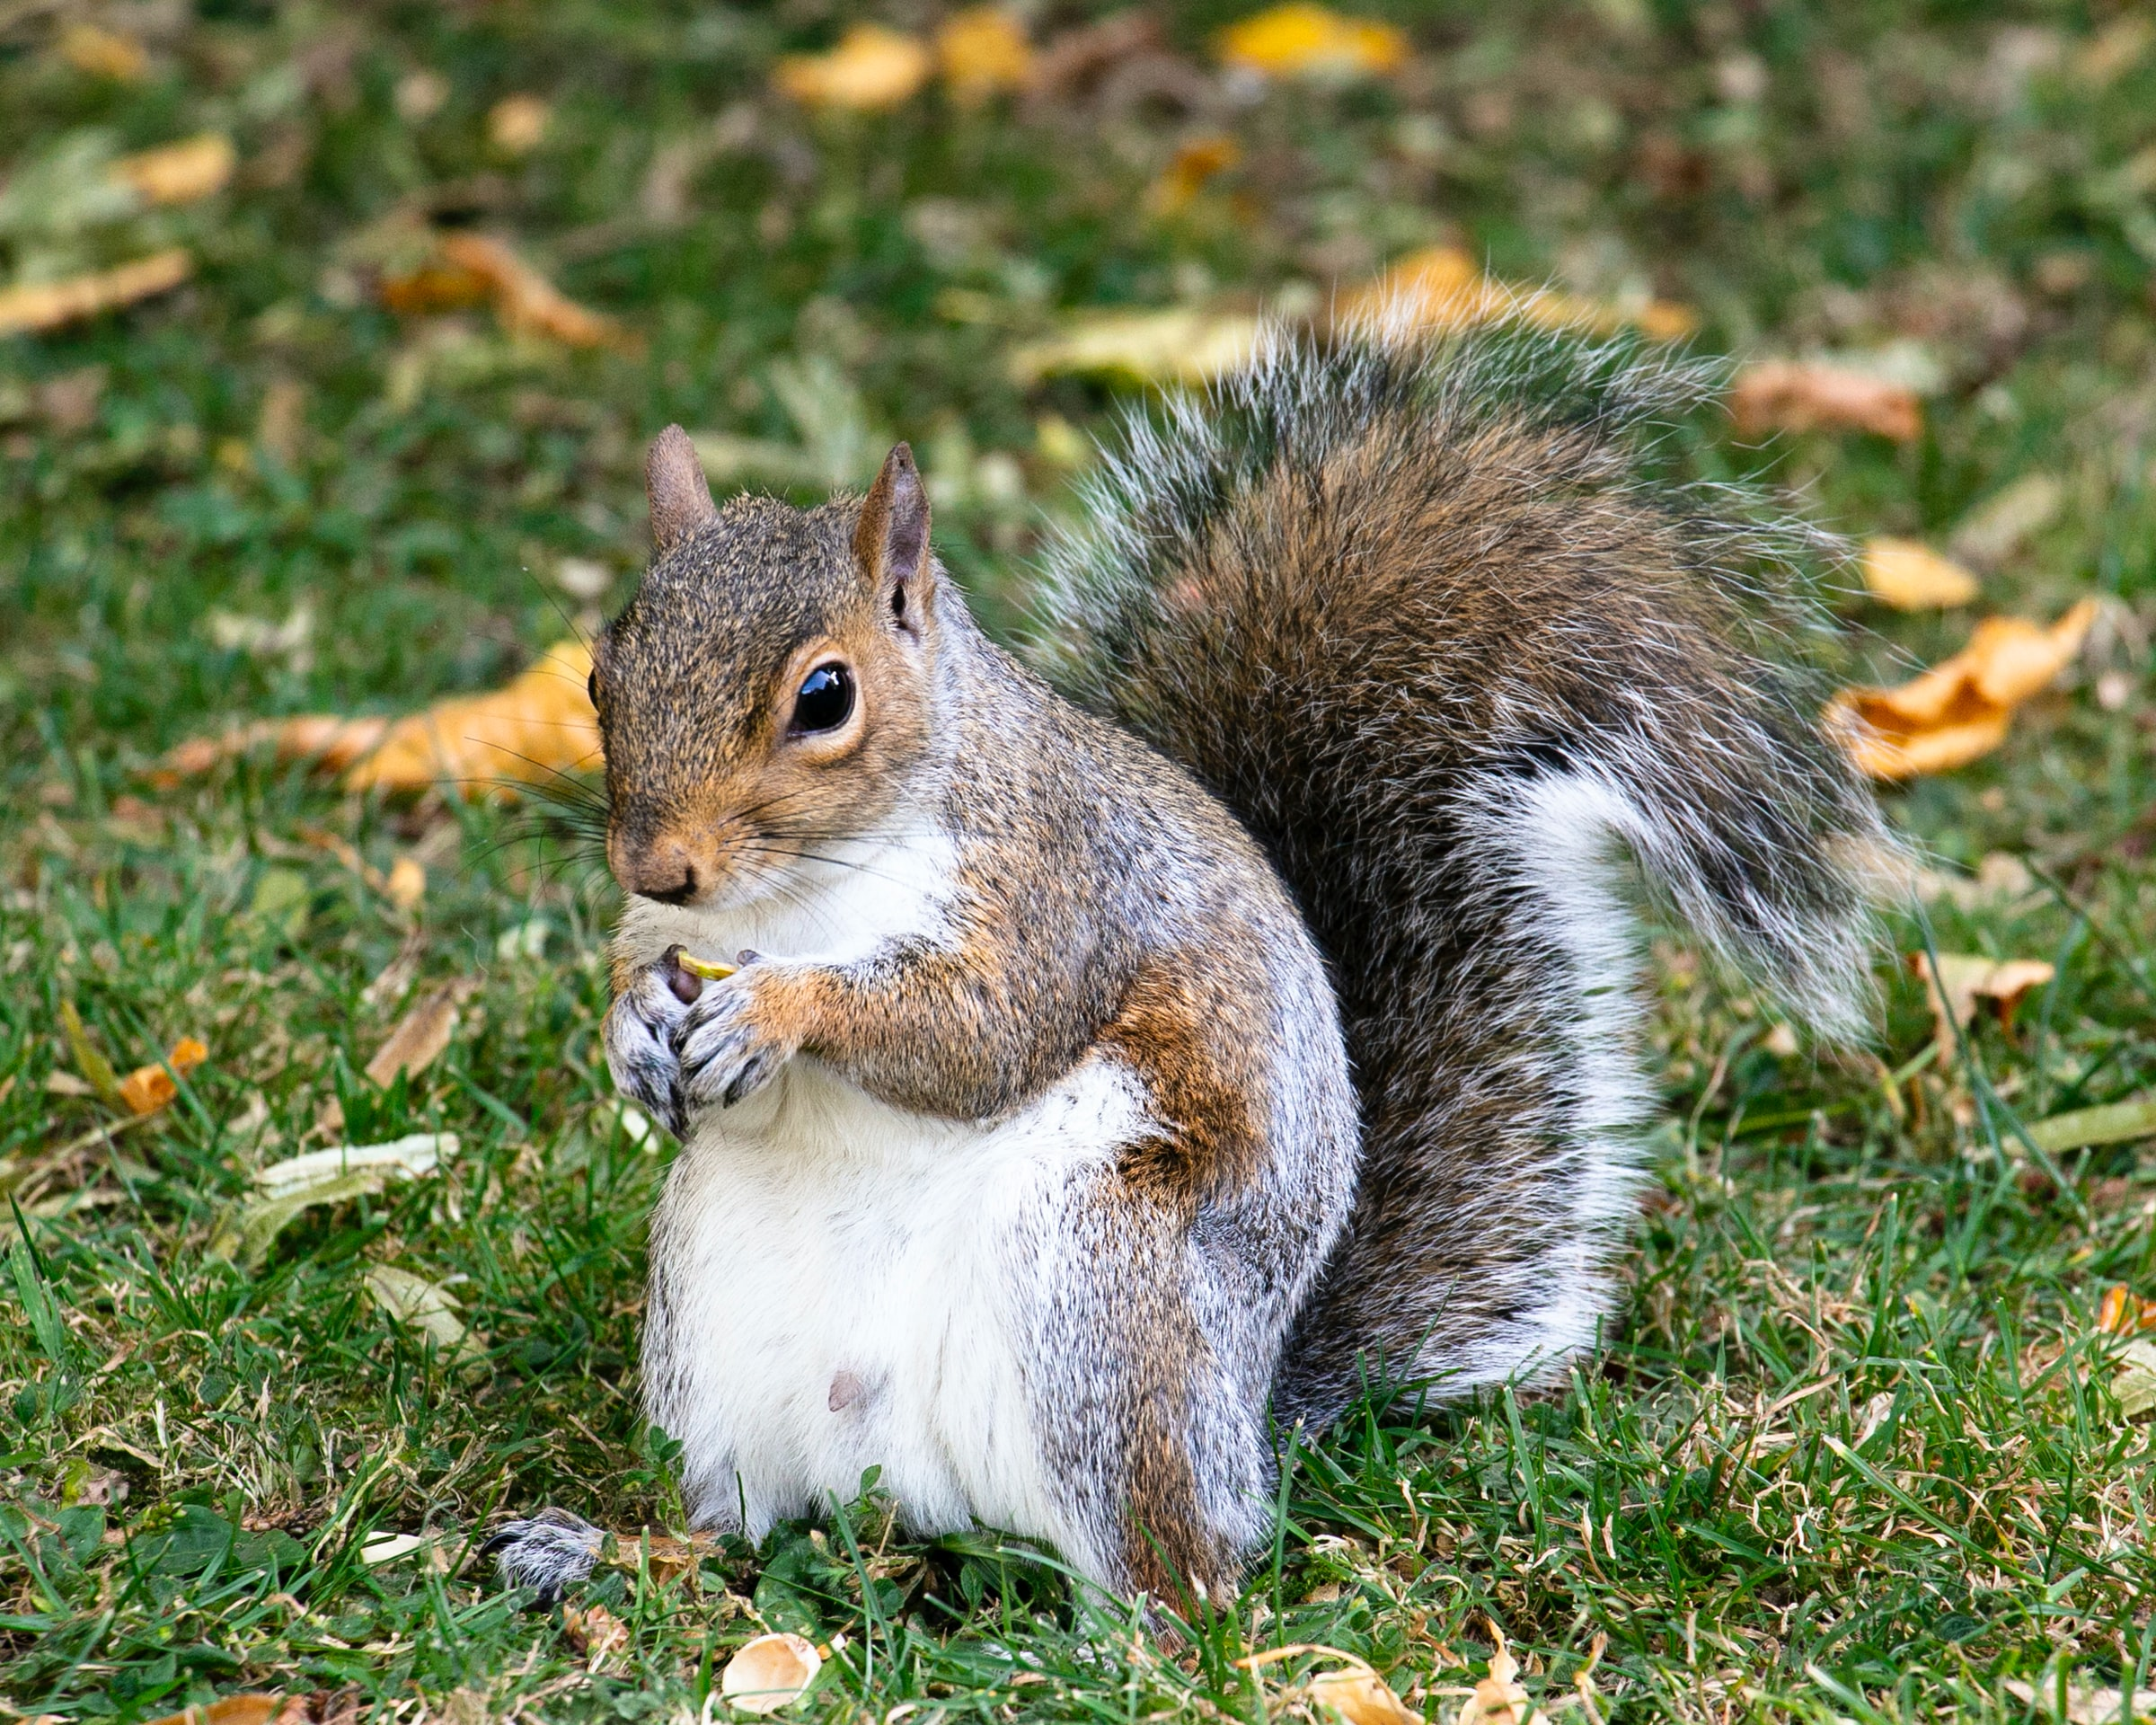squirrel: (576, 290, 1890, 1626)
